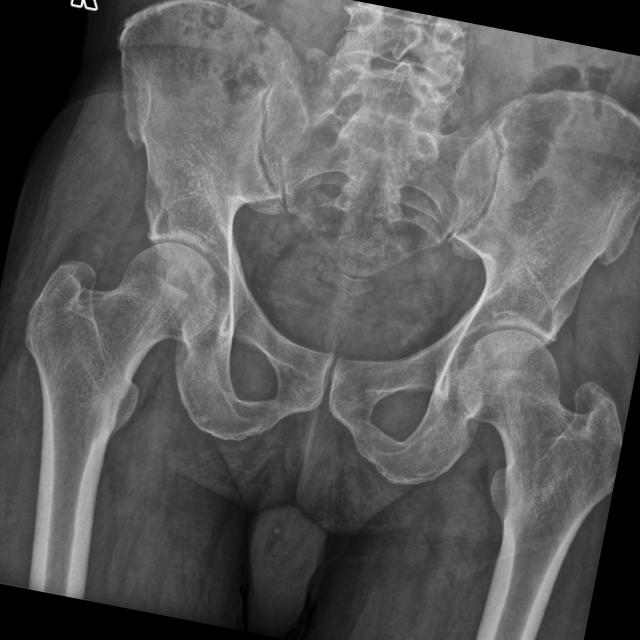normal-left: (459, 331, 622, 640)
normal-right: (25, 243, 217, 600)
